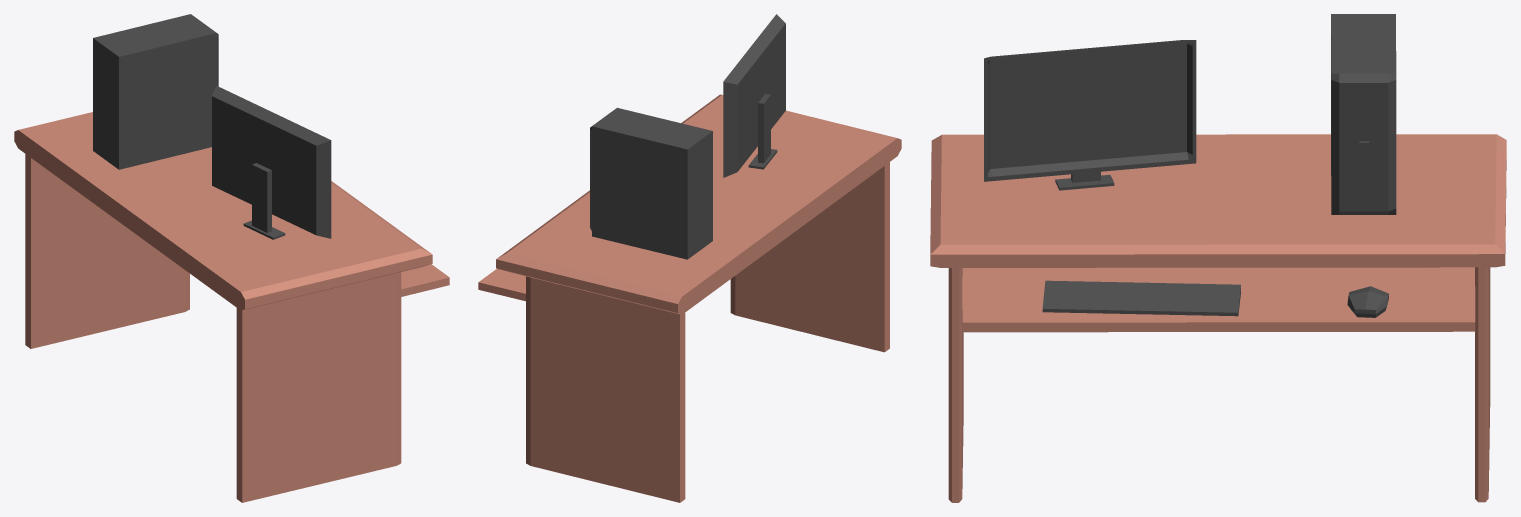
The model's file is computer.fbx.
The picture shows the model from 3 angles, left to right: view 1: azimuth 30°, elevation 25°; view 2: azimuth 150°, elevation 25°; view 3: azimuth 270°, elevation 25°; orthographic projection. The views are drawn at different scales.
Visible parts, largest first — view 1: Computer; view 2: Computer; view 3: Computer.
Boxes of the visible parts, x1=… form: Computer: x1=14, y1=14, x2=449, y2=502; Computer: x1=478, y1=14, x2=901, y2=502; Computer: x1=930, y1=14, x2=1506, y2=502.
Bounding box in the file's own units: 165 × 237 × 302.
